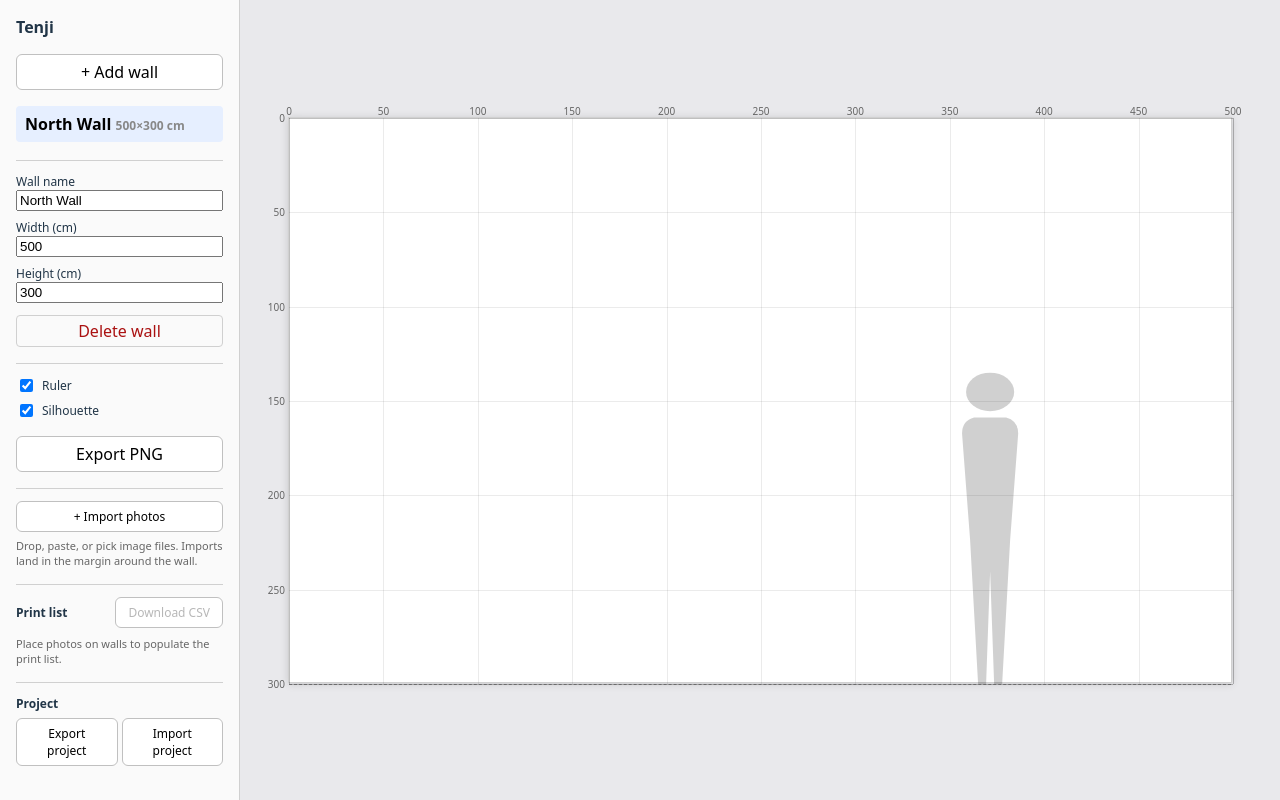
Scenario: App › toggles the silhouette + floor off and on via the sidebar
Expected: the button "North Wall 500×300 cm" is shown, [16, 106, 223, 142]
Expected: the element with test id "overlay-silhouette" is shown, [950, 363, 1030, 684]
Step 1. Click the checkbox labelled "Silhouette" → point(26, 410), box [20, 404, 33, 417]
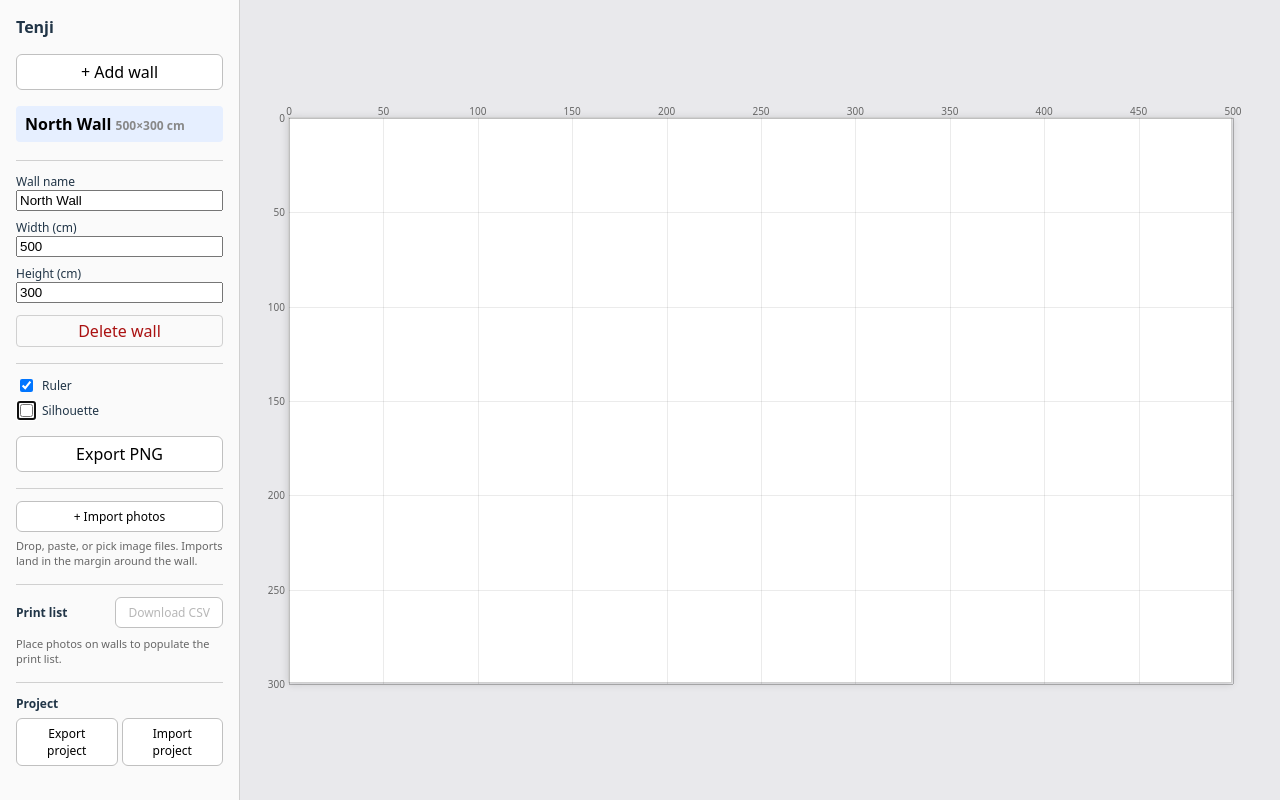
Expected: the element with test id "overlay-silhouette" is gone
